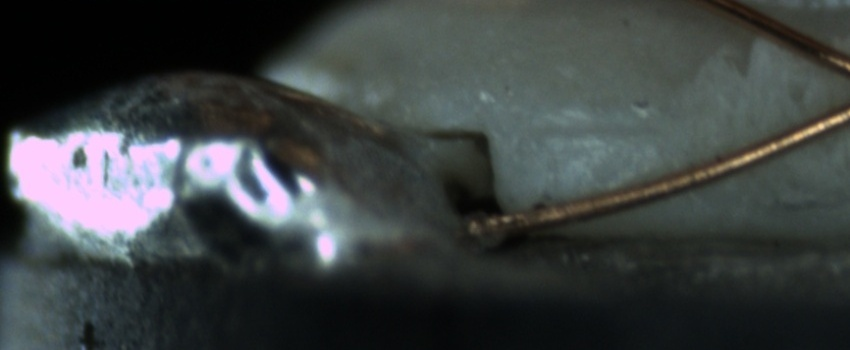DL: (527, 96, 666, 164)
